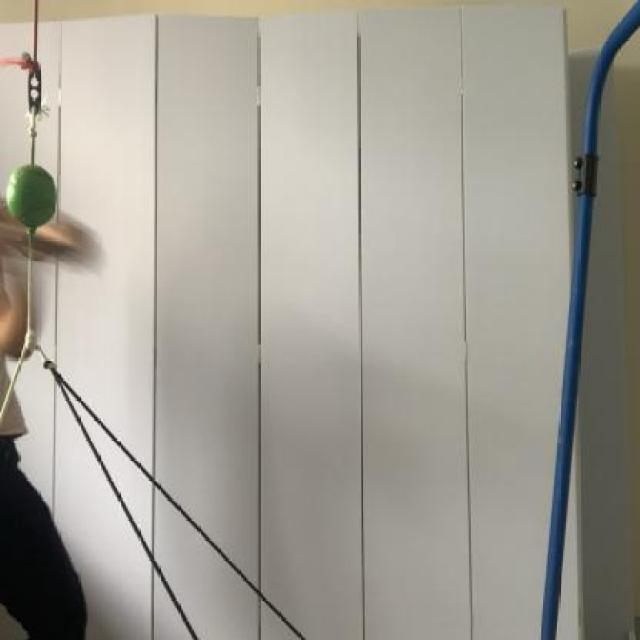baseball: (5, 157, 57, 231)
